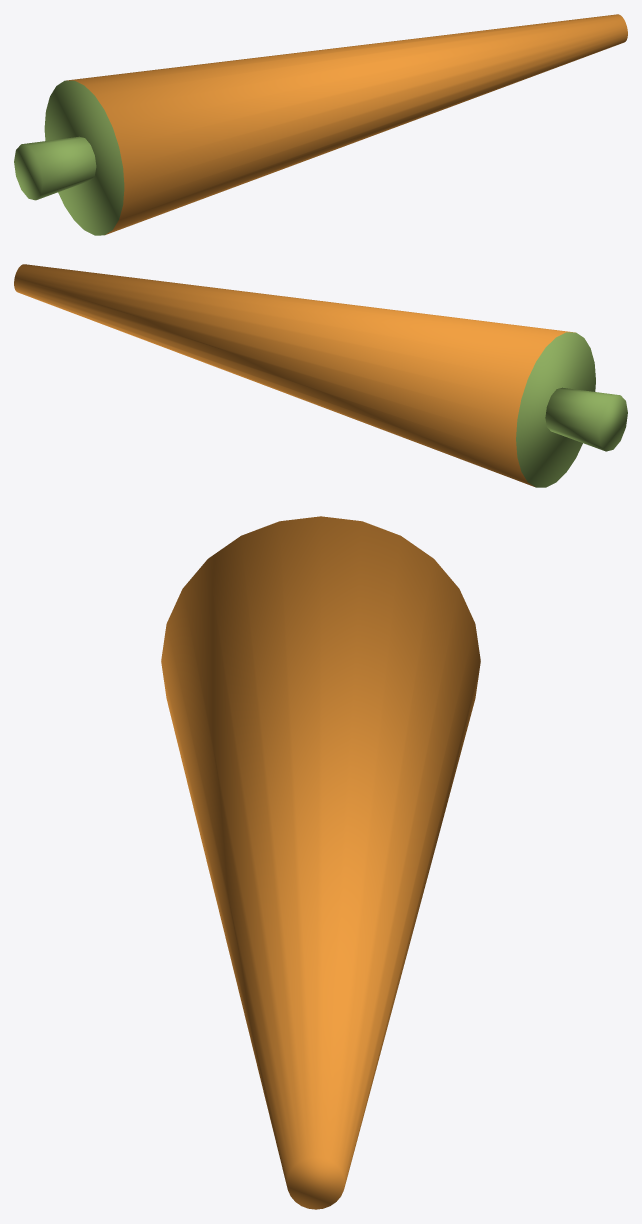
File: Carrot.fbx
3 renders of one model, top to bottom at view 1: azimuth 30°, elevation 25°; view 2: azimuth 150°, elevation 25°; view 3: azimuth 270°, elevation 25°, orthographic. The views are drawn at different scales.
Parts seen in each view (by area): view 1: Carrot; view 2: Carrot; view 3: Carrot.
Boxes of the visible parts, left/top/right/bottom form: Carrot: left=14, top=14, right=627, bottom=235; Carrot: left=14, top=264, right=627, bottom=487; Carrot: left=161, top=516, right=480, bottom=1209.
Bounding box in the file's own units: 0.188 × 0.044 × 0.044.
